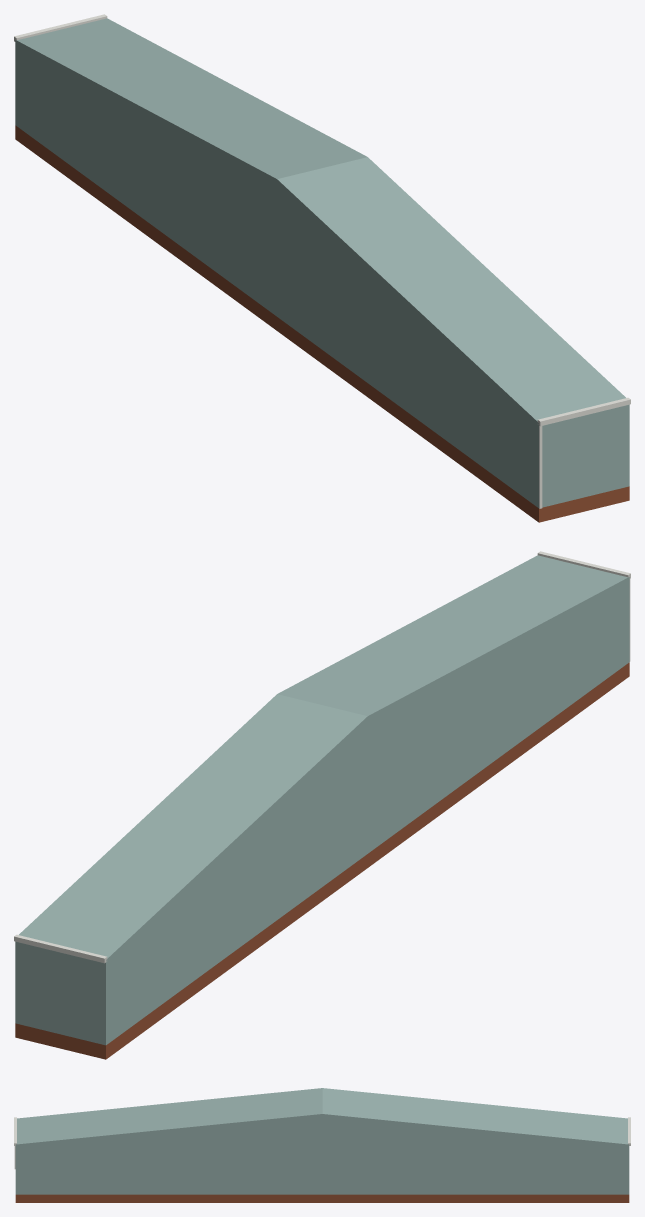
Rendered from glasshouse-bay.glb.
The picture shows the model from 3 angles, top to bottom: view 1: azimuth 30°, elevation 25°; view 2: azimuth 150°, elevation 25°; view 3: azimuth 270°, elevation 25°; orthographic projection. The views are drawn at different scales.
Parts seen in each view (by area): view 1: glasshouse-bay; view 2: glasshouse-bay; view 3: glasshouse-bay.
Part boxes in pixels (x1=…): glasshouse-bay: x1=14, y1=14, x2=630, y2=522; glasshouse-bay: x1=14, y1=551, x2=630, y2=1059; glasshouse-bay: x1=14, y1=1088, x2=630, y2=1202.
Size of the model in its own units: 4 by 6.4 by 40.2.
